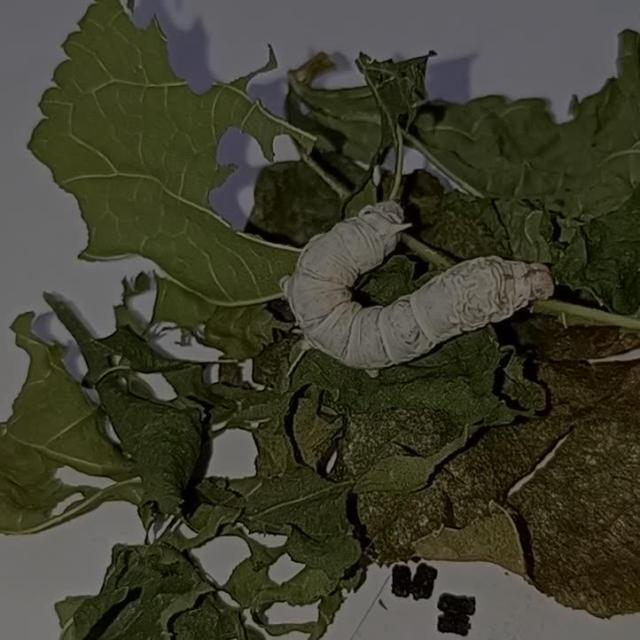Healthy: (253, 160, 574, 395)
